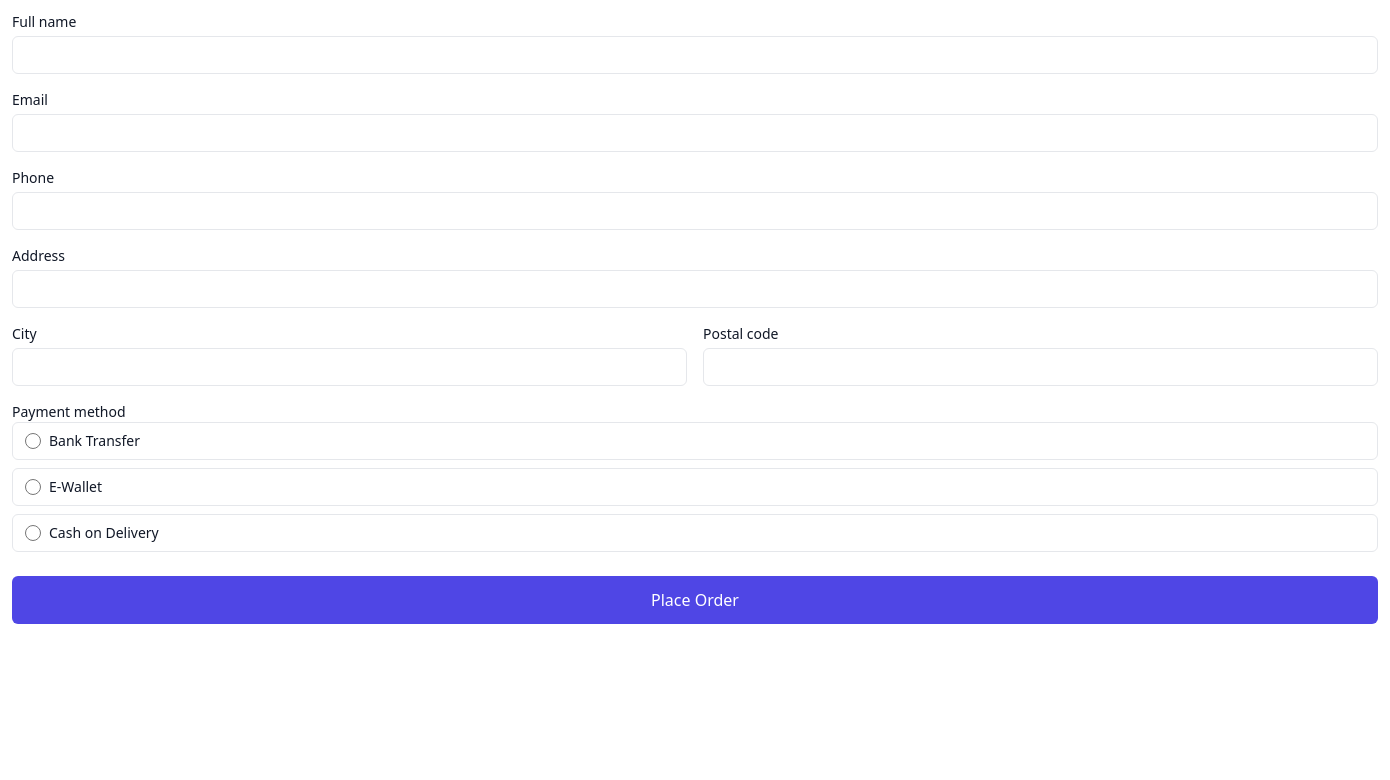
CheckoutForm › shows validation errors when submitting empty
What coordinates should you click on to do the following:
click the button "Place Order"
I would click on:
 (695, 600)
Its box is [12,576,1378,624].
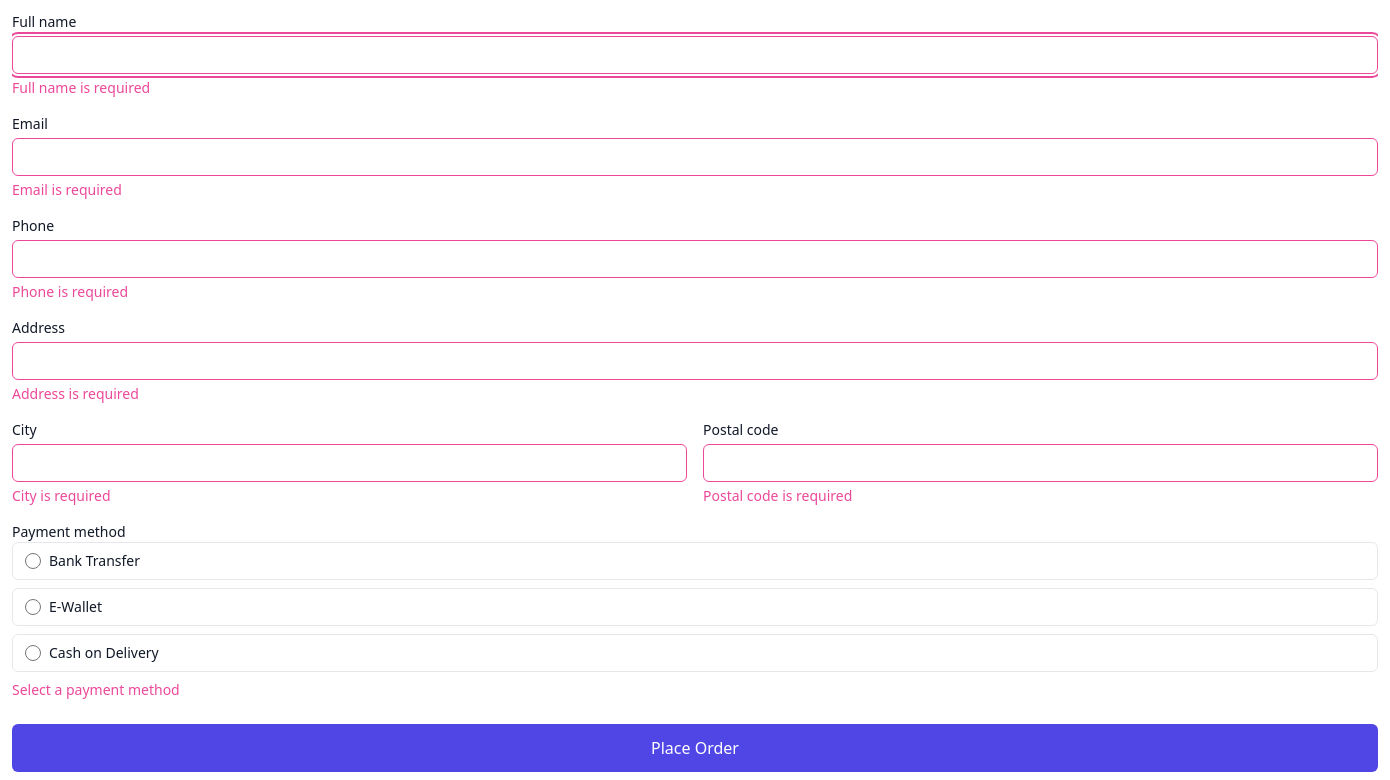
Result: the message "Full name is required" is shown at [12,78,150,97]
